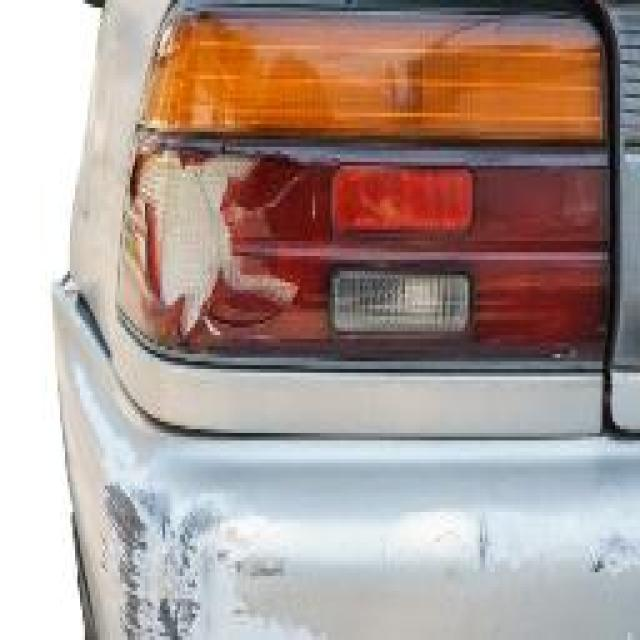Bumper: (68, 425, 638, 640)
Light: (120, 117, 360, 373)
